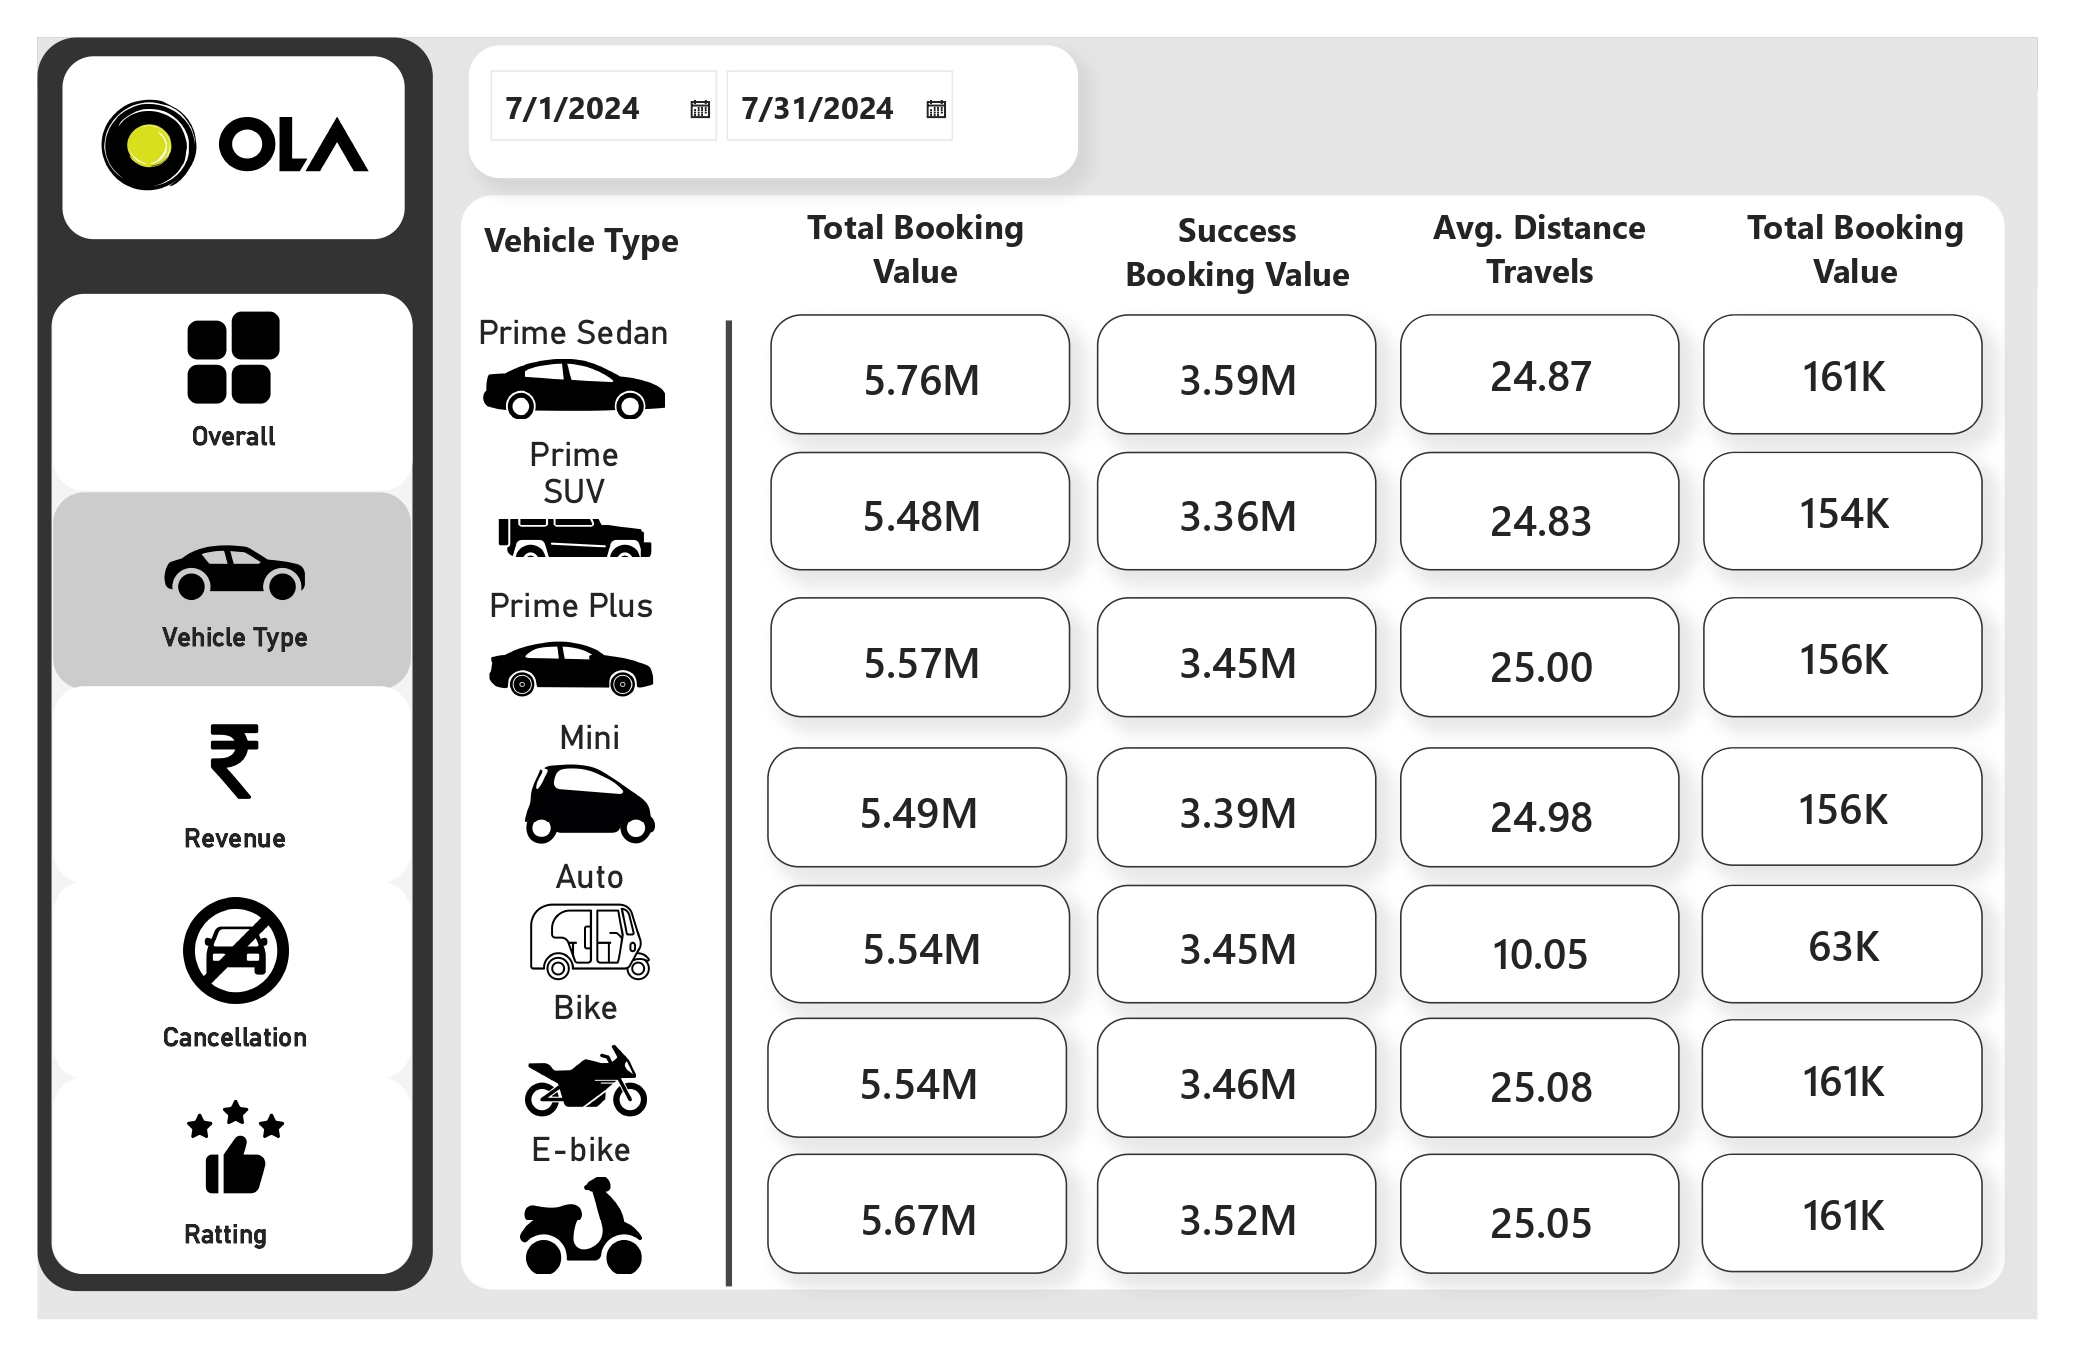

This screenshot's page, from the dashboard's own definition file:
{"tool":"powerbi","page":{"name":"vehicle_type","canvas":[1280,820],"ordinal":1},"visuals":[{"type":"group","id":"g1","title":"Group 2","box":[0,0,252.9,801.7],"z":0},{"type":"shape","box":[0,0,252.9,801.7],"z":0,"group":"g1"},{"type":"shape","box":[15.9,12.4,219.5,116.8],"z":0,"group":"g2"},{"type":"shape","box":[271.4,100.7,987.8,699.9],"z":0,"group":"g3"},{"type":"shape","box":[10,164.3,230,126.1],"z":0,"group":"g5"},{"type":"shape","box":[9.3,164.7,230.6,626.1],"z":0,"group":"g4"},{"type":"shape","box":[10.1,290.5,229.1,126.1],"z":0,"group":"g6"},{"type":"shape","box":[9.9,415.4,229.1,126.1],"z":0,"group":"g7"},{"type":"shape","box":[9.9,540.3,229.1,126.1],"z":0,"group":"g8"},{"type":"shape","box":[10.2,664.6,229.1,126.1],"z":0,"group":"g9"},{"type":"group","id":"g2","title":"Group 1","box":[15.9,12.4,219.5,116.8],"z":1000,"group":"g1"},{"type":"image","box":[39.8,20.4,173.3,97.6],"z":1000,"group":"g2"},{"type":"group","id":"g3","title":"Group 3","box":[271.4,100.7,986.7,701],"z":1000},{"type":"slicer","title":"Date","fields":{"Values":["Ola_Bookings_July.Date"]},"box":[276.4,5,389.7,84.9],"z":2000},{"type":"group","id":"g4","title":"Group 1","box":[9.3,164.7,230.6,626.1],"z":2000,"group":"g1"},{"type":"image","title":"Prime Sedan","box":[280.9,175.5,124.1,68.4],"z":2000,"group":"g3"},{"type":"textbox","box":[13.3,240.2,224.6,46],"z":2000,"group":"g5"},{"type":"textbox","box":[11.9,367.6,229.1,42.4],"z":2000,"group":"g6"},{"type":"textbox","box":[11.7,497.2,229.1,42.4],"z":2000,"group":"g7"},{"type":"textbox","box":[11.7,624.7,229.1,42.4],"z":2000,"group":"g8"},{"type":"textbox","box":[6,750,229.1,42.4],"z":2000,"group":"g9"},{"type":"image","box":[77.8,171.7,94.4,66.8],"z":2500,"group":"g5"},{"type":"image","title":"Overall","box":[29.9,294.7,192.2,94],"z":2500,"group":"g6"},{"type":"image","box":[86.7,434.6,77.8,58.1],"z":2500,"group":"g7"},{"type":"image","box":[56.7,550.7,138.9,68],"z":2500,"group":"g8"},{"type":"image","box":[66,674.1,121.1,70.5],"z":2500,"group":"g9"},{"type":"image","title":"Prime SUV","box":[292.1,253.4,103.4,77.9],"z":3000,"group":"g3"},{"type":"group","id":"g5","title":"Overall","box":[10,164.3,230,126.1],"z":4000,"group":"g1"},{"type":"image","title":"Mini","box":[312.8,434.7,82.7,81.1],"z":4000,"group":"g3"},{"type":"image","title":"Prime Plus","box":[285.7,350.4,112.9,84.3],"z":5000,"group":"g3"},{"type":"image","title":"Auto","box":[312.8,523.8,82.7,79.5],"z":6000,"group":"g3"},{"type":"image","title":"Bike","box":[312.8,608.1,77.9,87.5],"z":7000,"group":"g3"},{"type":"image","title":"E-bike","box":[309.6,698.8,77.9,92.3],"z":8000,"group":"g3"},{"type":"textbox","box":[271.4,108.7,154.3,47.7],"z":9000,"group":"g3"},{"type":"group","id":"g6","title":"Vehicle type","box":[10.1,290.5,230.9,126.1],"z":9000,"group":"g1"},{"type":"textbox","box":[478.2,100.7,168.6,74.8],"z":10000,"group":"g3"},{"type":"group","id":"g7","title":"Revenue","box":[9.9,415.4,230.9,126.1],"z":10000,"group":"g1"},{"type":"textbox","box":[684.3,102.9,168.2,73.3],"z":11000,"group":"g3"},{"type":"group","id":"g8","title":"cancellation","box":[9.9,540.3,230.9,126.8],"z":11000,"group":"g1"},{"type":"textbox","box":[877.4,100.7,168.6,74.8],"z":12000,"group":"g3"},{"type":"group","id":"g9","title":"rating","box":[6,664.6,233.3,127.8],"z":12000,"group":"g1"},{"type":"textbox","box":[1079.4,100.7,168.6,74.8],"z":13000,"group":"g3"},{"type":"shape","box":[417.7,180.2,50.9,618.7],"z":14000,"group":"g3"},{"type":"cardVisual","title":"Total Bookings","fields":{"Data":["Sum(Ola_Bookings_July.Booking_Value)"]},"box":[469.3,176.9,191.8,76.7],"z":15000,"group":"g3"},{"type":"cardVisual","title":"Total Bookings","fields":{"Data":["Sum(Ola_Bookings_July.Booking_Value)"]},"box":[469.3,264.3,191.8,76.7],"z":16000,"group":"g3"},{"type":"cardVisual","title":"Total Bookings","fields":{"Data":["Sum(Ola_Bookings_July.Booking_Value)"]},"box":[469.3,358.1,191.8,76.7],"z":17000,"group":"g3"},{"type":"cardVisual","title":"Total Bookings","fields":{"Data":["Sum(Ola_Bookings_July.Booking_Value)"]},"box":[467.2,454,191.8,76.7],"z":18000,"group":"g3"},{"type":"cardVisual","title":"Total Bookings","fields":{"Data":["Sum(Ola_Bookings_July.Booking_Value)"]},"box":[469.3,541.3,191.8,76.7],"z":19000,"group":"g3"},{"type":"cardVisual","title":"Total Bookings","fields":{"Data":["Sum(Ola_Bookings_July.Booking_Value)"]},"box":[467.2,626.6,191.8,76.7],"z":20000,"group":"g3"},{"type":"cardVisual","title":"Total Bookings","fields":{"Data":["Sum(Ola_Bookings_July.Booking_Value)"]},"box":[467.2,713.9,191.8,76.7],"z":21000,"group":"g3"},{"type":"cardVisual","title":"Total Bookings","fields":{"Data":["Sum(Ola_Bookings_July.Booking_Value)"]},"box":[678.2,176.9,179,76.7],"z":22000,"group":"g3"},{"type":"cardVisual","title":"Total Bookings","fields":{"Data":["Avg(Ola_Bookings_July.Ride_Distance)"]},"box":[872.1,176.9,179,76.7],"z":23000,"group":"g3"},{"type":"cardVisual","title":"Total Bookings","fields":{"Data":["Sum(Ola_Bookings_July.Ride_Distance)"]},"box":[1066,176.9,179,76.7],"z":24000,"group":"g3"},{"type":"cardVisual","title":"Total Bookings","fields":{"Data":["Sum(Ola_Bookings_July.Booking_Value)"]},"box":[678.2,264.3,179,76.7],"z":25000,"group":"g3"},{"type":"cardVisual","title":"Total Bookings","fields":{"Data":["Sum(Ola_Bookings_July.Booking_Value)"]},"box":[678.2,358.1,179,76.7],"z":26000,"group":"g3"},{"type":"cardVisual","title":"Total Bookings","fields":{"Data":["Sum(Ola_Bookings_July.Booking_Value)"]},"box":[678.2,454,179,76.7],"z":27000,"group":"g3"},{"type":"cardVisual","title":"Total Bookings","fields":{"Data":["Sum(Ola_Bookings_July.Booking_Value)"]},"box":[678.2,541.3,179,76.7],"z":28000,"group":"g3"},{"type":"cardVisual","title":"Total Bookings","fields":{"Data":["Sum(Ola_Bookings_July.Booking_Value)"]},"box":[678.2,626.6,179,76.7],"z":29000,"group":"g3"},{"type":"cardVisual","title":"Total Bookings","fields":{"Data":["Sum(Ola_Bookings_July.Booking_Value)"]},"box":[678.2,713.9,179,76.7],"z":30000,"group":"g3"},{"type":"cardVisual","title":"Total Bookings","fields":{"Data":["Avg(Ola_Bookings_July.Ride_Distance)"]},"box":[872.1,264.3,179,76.7],"z":31000,"group":"g3"},{"type":"cardVisual","title":"Total Bookings","fields":{"Data":["Avg(Ola_Bookings_July.Ride_Distance)"]},"box":[872.1,358.1,179,76.7],"z":32000,"group":"g3"},{"type":"cardVisual","title":"Total Bookings","fields":{"Data":["Avg(Ola_Bookings_July.Ride_Distance)"]},"box":[872.1,454,179,76.7],"z":33000,"group":"g3"},{"type":"cardVisual","title":"Total Bookings","fields":{"Data":["Avg(Ola_Bookings_July.Ride_Distance)"]},"box":[872.1,541.3,179,76.7],"z":34000,"group":"g3"},{"type":"cardVisual","title":"Total Bookings","fields":{"Data":["Avg(Ola_Bookings_July.Ride_Distance)"]},"box":[872.1,626.6,179,76.7],"z":35000,"group":"g3"},{"type":"cardVisual","title":"Total Bookings","fields":{"Data":["Avg(Ola_Bookings_July.Ride_Distance)"]},"box":[872.1,713.9,179,76.7],"z":36000,"group":"g3"},{"type":"cardVisual","title":"Total Bookings","fields":{"Data":["Sum(Ola_Bookings_July.Ride_Distance)"]},"box":[1066,264.3,179,76.7],"z":37000,"group":"g3"},{"type":"cardVisual","title":"Total Bookings","fields":{"Data":["Sum(Ola_Bookings_July.Ride_Distance)"]},"box":[1066,358.1,179,76.7],"z":38000,"group":"g3"},{"type":"cardVisual","title":"Total Bookings","fields":{"Data":["Sum(Ola_Bookings_July.Ride_Distance)"]},"box":[1065.9,453.6,180,76],"z":39000,"group":"g3"},{"type":"cardVisual","title":"Total Bookings","fields":{"Data":["Sum(Ola_Bookings_July.Ride_Distance)"]},"box":[1065.9,541.6,180,76],"z":40000,"group":"g3"},{"type":"cardVisual","title":"Total Bookings","fields":{"Data":["Sum(Ola_Bookings_July.Ride_Distance)"]},"box":[1065.9,627.6,180,76],"z":41000,"group":"g3"},{"type":"cardVisual","title":"Total Bookings","fields":{"Data":["Sum(Ola_Bookings_July.Ride_Distance)"]},"box":[1065.9,713.6,180,76],"z":42000,"group":"g3"}]}

Visuals, with their boxes on the page's 1280x820 design canvas (x1, y1, x2, y2). These are canvas units, not pixel positions in the 2075x1357 screenshot, which may show the page scaled, cropped or inside an application window:
"Group 2" group: x1=0 y1=0 x2=253 y2=802
shape: x1=0 y1=0 x2=253 y2=802
shape: x1=16 y1=12 x2=235 y2=129
shape: x1=271 y1=101 x2=1259 y2=801
shape: x1=10 y1=164 x2=240 y2=290
shape: x1=9 y1=165 x2=240 y2=791
shape: x1=10 y1=290 x2=239 y2=417
shape: x1=10 y1=415 x2=239 y2=542
shape: x1=10 y1=540 x2=239 y2=666
shape: x1=10 y1=665 x2=239 y2=791
"Group 1" group: x1=16 y1=12 x2=235 y2=129
image: x1=40 y1=20 x2=213 y2=118
"Group 3" group: x1=271 y1=101 x2=1258 y2=802
"Date" slicer: x1=276 y1=5 x2=666 y2=90
"Group 1" group: x1=9 y1=165 x2=240 y2=791
"Prime Sedan" image: x1=281 y1=176 x2=405 y2=244
textbox: x1=13 y1=240 x2=238 y2=286
textbox: x1=12 y1=368 x2=241 y2=410
textbox: x1=12 y1=497 x2=241 y2=540
textbox: x1=12 y1=625 x2=241 y2=667
textbox: x1=6 y1=750 x2=235 y2=792
image: x1=78 y1=172 x2=172 y2=238
"Overall" image: x1=30 y1=295 x2=222 y2=389
image: x1=87 y1=435 x2=164 y2=493
image: x1=57 y1=551 x2=196 y2=619
image: x1=66 y1=674 x2=187 y2=745
"Prime SUV" image: x1=292 y1=253 x2=396 y2=331
"Overall" group: x1=10 y1=164 x2=240 y2=290
"Mini" image: x1=313 y1=435 x2=396 y2=516
"Prime Plus" image: x1=286 y1=350 x2=399 y2=435
"Auto" image: x1=313 y1=524 x2=396 y2=603
"Bike" image: x1=313 y1=608 x2=391 y2=696
"E-bike" image: x1=310 y1=699 x2=388 y2=791
textbox: x1=271 y1=109 x2=426 y2=156
"Vehicle type" group: x1=10 y1=290 x2=241 y2=417
textbox: x1=478 y1=101 x2=647 y2=176
"Revenue" group: x1=10 y1=415 x2=241 y2=542
textbox: x1=684 y1=103 x2=852 y2=176
"cancellation" group: x1=10 y1=540 x2=241 y2=667
textbox: x1=877 y1=101 x2=1046 y2=176
"rating" group: x1=6 y1=665 x2=239 y2=792
textbox: x1=1079 y1=101 x2=1248 y2=176
shape: x1=418 y1=180 x2=469 y2=799
"Total Bookings" cardVisual: x1=469 y1=177 x2=661 y2=254
"Total Bookings" cardVisual: x1=469 y1=264 x2=661 y2=341
"Total Bookings" cardVisual: x1=469 y1=358 x2=661 y2=435
"Total Bookings" cardVisual: x1=467 y1=454 x2=659 y2=531
"Total Bookings" cardVisual: x1=469 y1=541 x2=661 y2=618
"Total Bookings" cardVisual: x1=467 y1=627 x2=659 y2=703
"Total Bookings" cardVisual: x1=467 y1=714 x2=659 y2=791
"Total Bookings" cardVisual: x1=678 y1=177 x2=857 y2=254
"Total Bookings" cardVisual: x1=872 y1=177 x2=1051 y2=254
"Total Bookings" cardVisual: x1=1066 y1=177 x2=1245 y2=254
"Total Bookings" cardVisual: x1=678 y1=264 x2=857 y2=341
"Total Bookings" cardVisual: x1=678 y1=358 x2=857 y2=435
"Total Bookings" cardVisual: x1=678 y1=454 x2=857 y2=531
"Total Bookings" cardVisual: x1=678 y1=541 x2=857 y2=618
"Total Bookings" cardVisual: x1=678 y1=627 x2=857 y2=703
"Total Bookings" cardVisual: x1=678 y1=714 x2=857 y2=791
"Total Bookings" cardVisual: x1=872 y1=264 x2=1051 y2=341
"Total Bookings" cardVisual: x1=872 y1=358 x2=1051 y2=435
"Total Bookings" cardVisual: x1=872 y1=454 x2=1051 y2=531
"Total Bookings" cardVisual: x1=872 y1=541 x2=1051 y2=618
"Total Bookings" cardVisual: x1=872 y1=627 x2=1051 y2=703
"Total Bookings" cardVisual: x1=872 y1=714 x2=1051 y2=791
"Total Bookings" cardVisual: x1=1066 y1=264 x2=1245 y2=341
"Total Bookings" cardVisual: x1=1066 y1=358 x2=1245 y2=435
"Total Bookings" cardVisual: x1=1066 y1=454 x2=1246 y2=530
"Total Bookings" cardVisual: x1=1066 y1=542 x2=1246 y2=618
"Total Bookings" cardVisual: x1=1066 y1=628 x2=1246 y2=704
"Total Bookings" cardVisual: x1=1066 y1=714 x2=1246 y2=790
